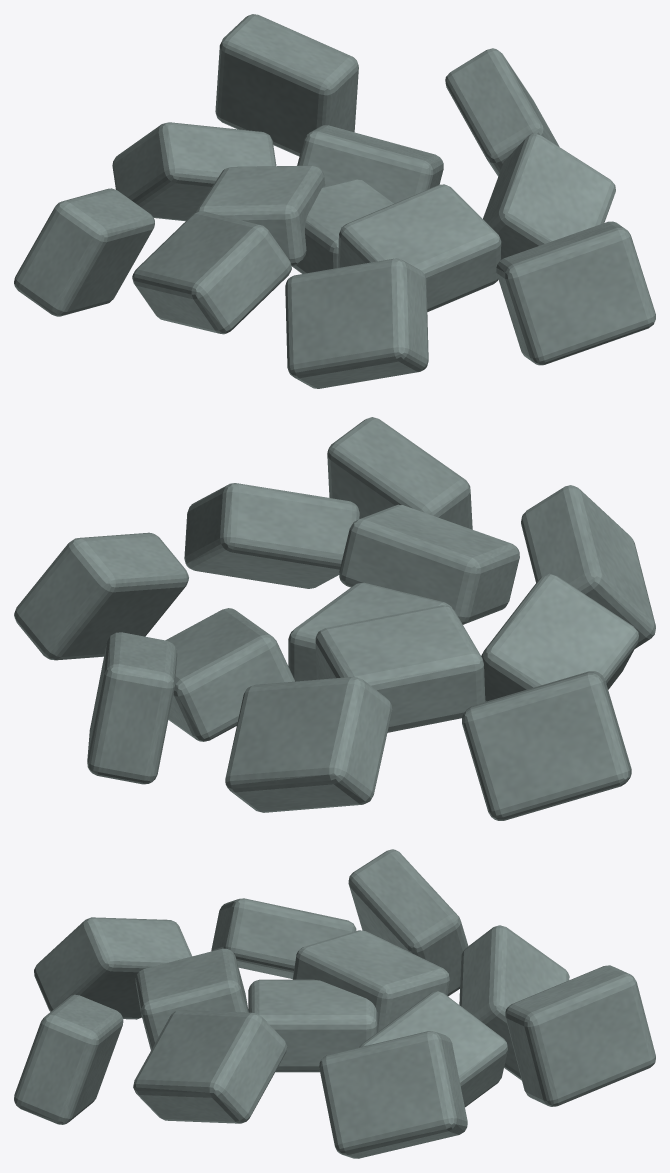
The model's file is SM_tower_rubble_LOD1.fbx.
3 renders of one model, top to bottom at view 1: azimuth 30°, elevation 25°; view 2: azimuth 150°, elevation 25°; view 3: azimuth 270°, elevation 25°, orthographic. The views are drawn at different scales.
Parts seen in each view (by area): view 1: SM_tower_rubble_LOD1; view 2: SM_tower_rubble_LOD1; view 3: SM_tower_rubble_LOD1.
Part boxes in pixels (x1,y1,x2,y2): SM_tower_rubble_LOD1: [14, 14, 655, 388]; SM_tower_rubble_LOD1: [14, 417, 655, 820]; SM_tower_rubble_LOD1: [14, 849, 655, 1158].
Size of the model in its own units: 1.62 by 1.74 by 0.4558.
